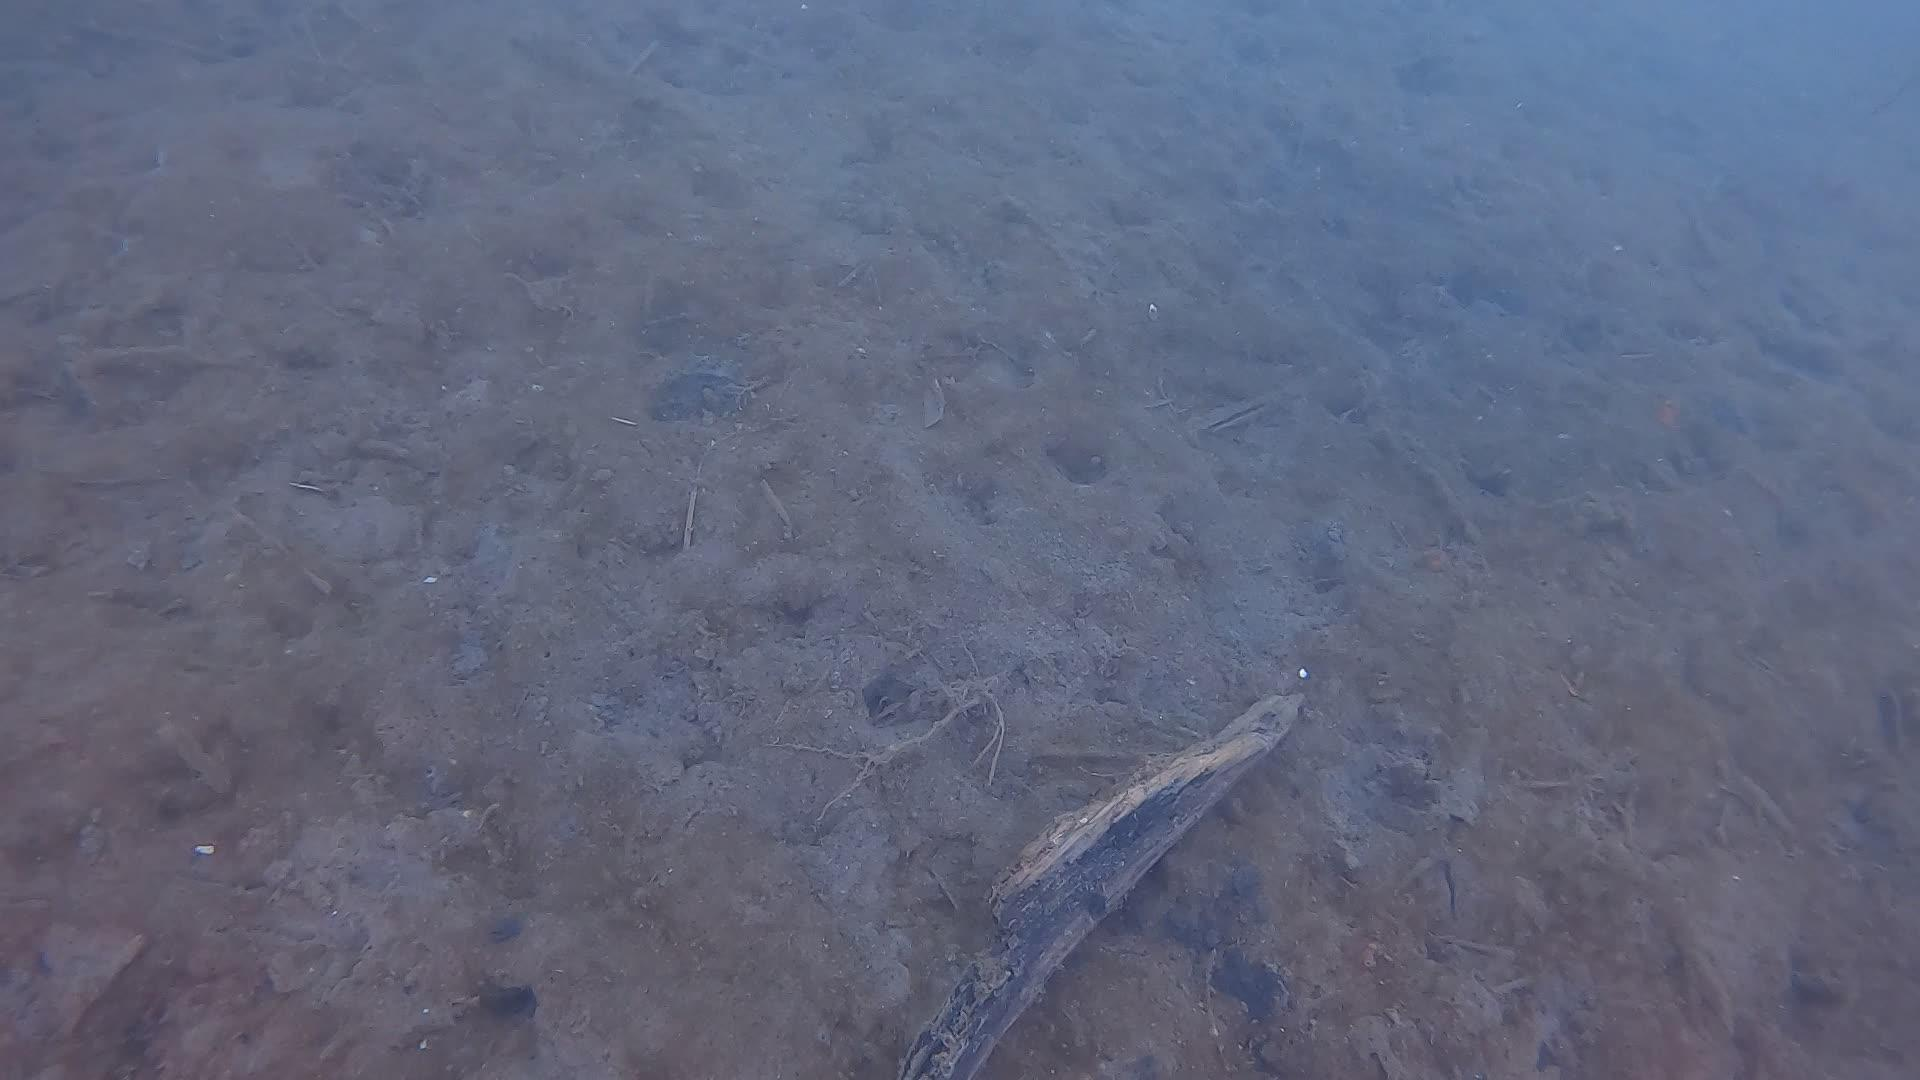wood: (887, 688, 1302, 1080)
